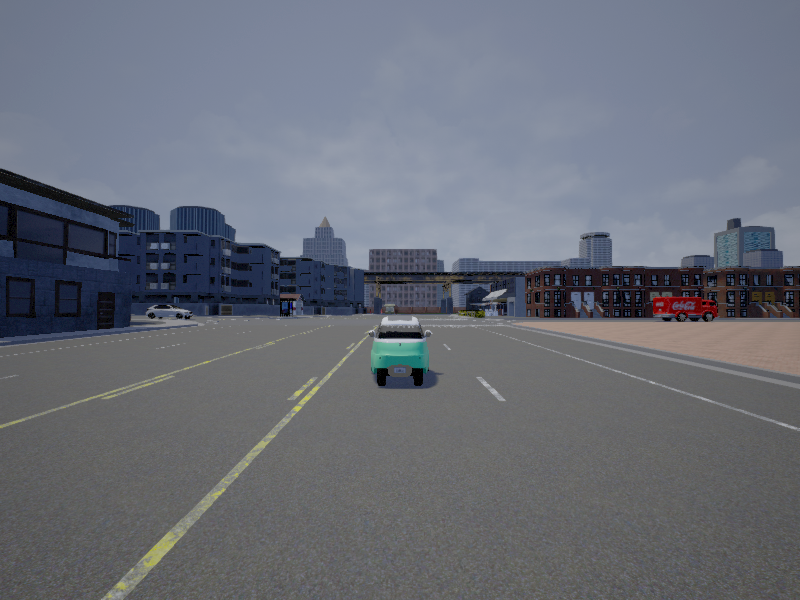Benign: (367, 316, 432, 387), (652, 297, 718, 323), (146, 304, 192, 321)
